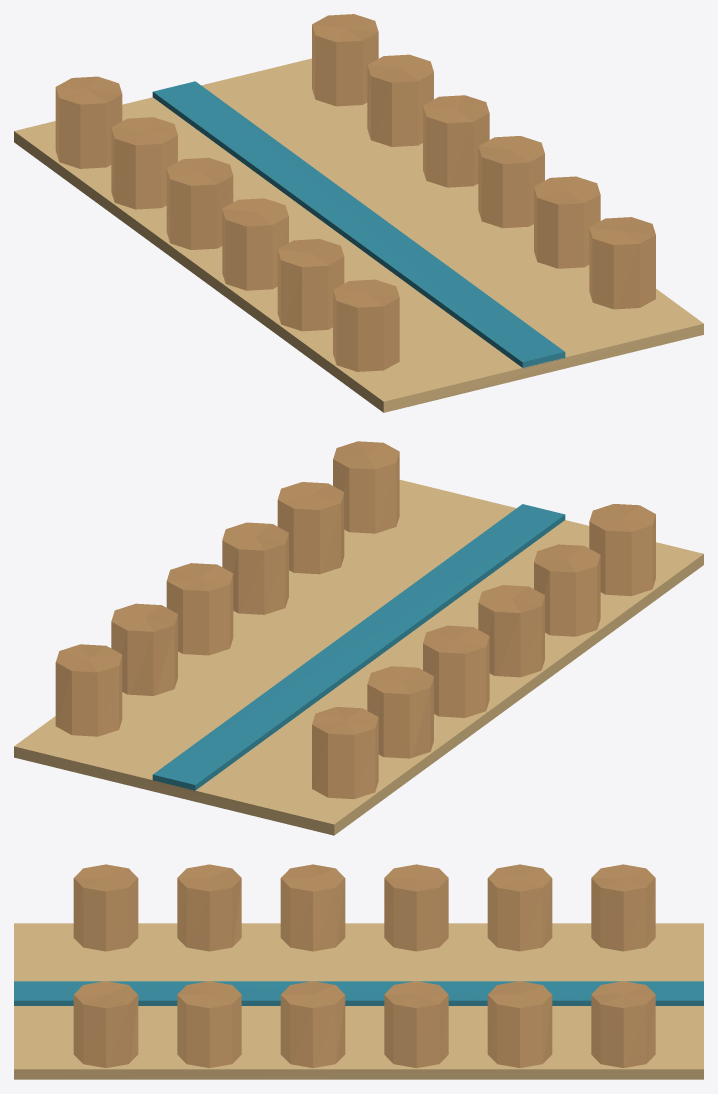
Rendered from wildlife-corridor.source.glb.
3 views of the same model, one above another, from view 1: azimuth 30°, elevation 25°; view 2: azimuth 150°, elevation 25°; view 3: azimuth 270°, elevation 25° (orthographic). The views are drawn at different scales.
Parts seen in each view (by area): view 1: wildlife-corridor-path-mesh, wildlife-corridor-water-strip-mesh, wildlife-corridor-shrub--1.2-5-mesh, wildlife-corridor-shrub-1.2-5-mesh, wildlife-corridor-shrub--1.2-0-mesh, wildlife-corridor-shrub--1.2-2-mesh, wildlife-corridor-shrub--1.2-4-mesh, wildlife-corridor-shrub--1.2-1-mesh, wildlife-corridor-shrub-1.2-4-mesh, wildlife-corridor-shrub--1.2-3-mesh, wildlife-corridor-shrub-1.2-0-mesh, wildlife-corridor-shrub-1.2-2-mesh (+2 smaller); view 2: wildlife-corridor-path-mesh, wildlife-corridor-water-strip-mesh, wildlife-corridor-shrub-1.2-0-mesh, wildlife-corridor-shrub--1.2-0-mesh, wildlife-corridor-shrub-1.2-2-mesh, wildlife-corridor-shrub-1.2-4-mesh, wildlife-corridor-shrub-1.2-3-mesh, wildlife-corridor-shrub-1.2-5-mesh, wildlife-corridor-shrub--1.2-2-mesh, wildlife-corridor-shrub--1.2-3-mesh, wildlife-corridor-shrub--1.2-4-mesh, wildlife-corridor-shrub--1.2-1-mesh (+2 smaller); view 3: wildlife-corridor-path-mesh, wildlife-corridor-water-strip-mesh, wildlife-corridor-shrub-1.2-1-mesh, wildlife-corridor-shrub-1.2-3-mesh, wildlife-corridor-shrub-1.2-5-mesh, wildlife-corridor-shrub--1.2-1-mesh, wildlife-corridor-shrub--1.2-3-mesh, wildlife-corridor-shrub--1.2-5-mesh, wildlife-corridor-shrub--1.2-0-mesh, wildlife-corridor-shrub--1.2-2-mesh, wildlife-corridor-shrub--1.2-4-mesh, wildlife-corridor-shrub-1.2-0-mesh (+2 smaller).
Part boxes in pixels (x1,y1,x2,y2): wildlife-corridor-path-mesh: (14,58,703,412); wildlife-corridor-water-strip-mesh: (152,81,565,368); wildlife-corridor-shrub--1.2-5-mesh: (333,279,399,371); wildlife-corridor-shrub-1.2-5-mesh: (589,217,655,309); wildlife-corridor-shrub--1.2-0-mesh: (55,76,122,168); wildlife-corridor-shrub--1.2-2-mesh: (166,157,233,249); wildlife-corridor-shrub--1.2-4-mesh: (277,239,344,331); wildlife-corridor-shrub--1.2-1-mesh: (111,117,177,209); wildlife-corridor-shrub-1.2-4-mesh: (534,176,600,268); wildlife-corridor-shrub--1.2-3-mesh: (222,198,288,290); wildlife-corridor-shrub-1.2-0-mesh: (312,14,378,106); wildlife-corridor-shrub-1.2-2-mesh: (423,95,489,187); wildlife-corridor-path-mesh: (14,479,703,835); wildlife-corridor-water-strip-mesh: (152,504,565,791); wildlife-corridor-shrub-1.2-0-mesh: (55,644,122,736); wildlife-corridor-shrub--1.2-0-mesh: (312,707,378,799); wildlife-corridor-shrub-1.2-2-mesh: (166,563,233,655); wildlife-corridor-shrub-1.2-4-mesh: (277,482,344,574); wildlife-corridor-shrub-1.2-3-mesh: (222,522,288,614); wildlife-corridor-shrub-1.2-5-mesh: (333,441,399,533); wildlife-corridor-shrub--1.2-2-mesh: (423,625,489,717); wildlife-corridor-shrub--1.2-3-mesh: (478,585,544,677); wildlife-corridor-shrub--1.2-4-mesh: (534,544,600,636); wildlife-corridor-shrub--1.2-1-mesh: (367,666,433,758); wildlife-corridor-path-mesh: (14,923,703,1079); wildlife-corridor-water-strip-mesh: (14,981,703,1005); wildlife-corridor-shrub-1.2-1-mesh: (487,981,552,1067); wildlife-corridor-shrub-1.2-3-mesh: (280,981,345,1067); wildlife-corridor-shrub-1.2-5-mesh: (73,981,138,1067); wildlife-corridor-shrub--1.2-1-mesh: (487,864,552,951); wildlife-corridor-shrub--1.2-3-mesh: (280,864,345,951); wildlife-corridor-shrub--1.2-5-mesh: (73,864,138,951); wildlife-corridor-shrub--1.2-0-mesh: (591,864,655,951); wildlife-corridor-shrub--1.2-2-mesh: (384,864,448,951); wildlife-corridor-shrub--1.2-4-mesh: (177,864,241,951); wildlife-corridor-shrub-1.2-0-mesh: (591,981,655,1067).
Bounding box in the file's own units: 3 × 0.675 × 6.
